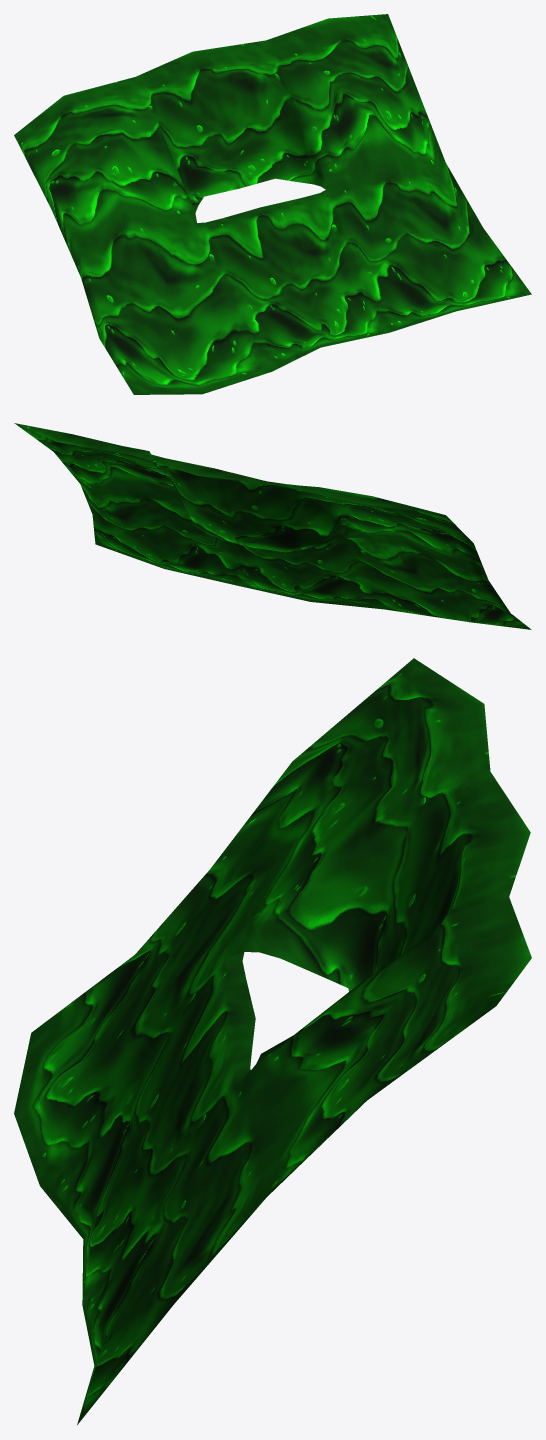
Rendered from TROLLHOLE02_SLIME.fbx.
The picture shows the model from 3 angles, top to bottom: view 1: azimuth 30°, elevation 25°; view 2: azimuth 150°, elevation 25°; view 3: azimuth 270°, elevation 25°; orthographic projection. The views are drawn at different scales.
Parts seen in each view (by area): view 1: TROLLHOLE02_SLIME; view 2: TROLLHOLE02_SLIME; view 3: TROLLHOLE02_SLIME.
Part boxes in pixels (x1,y1,x2,y2): TROLLHOLE02_SLIME: (14, 14, 531, 394); TROLLHOLE02_SLIME: (14, 423, 531, 629); TROLLHOLE02_SLIME: (14, 658, 531, 1424).
Size of the model in its own units: 275818 by 131015 by 153241.
Materials: 1 (1 with a texture image).
